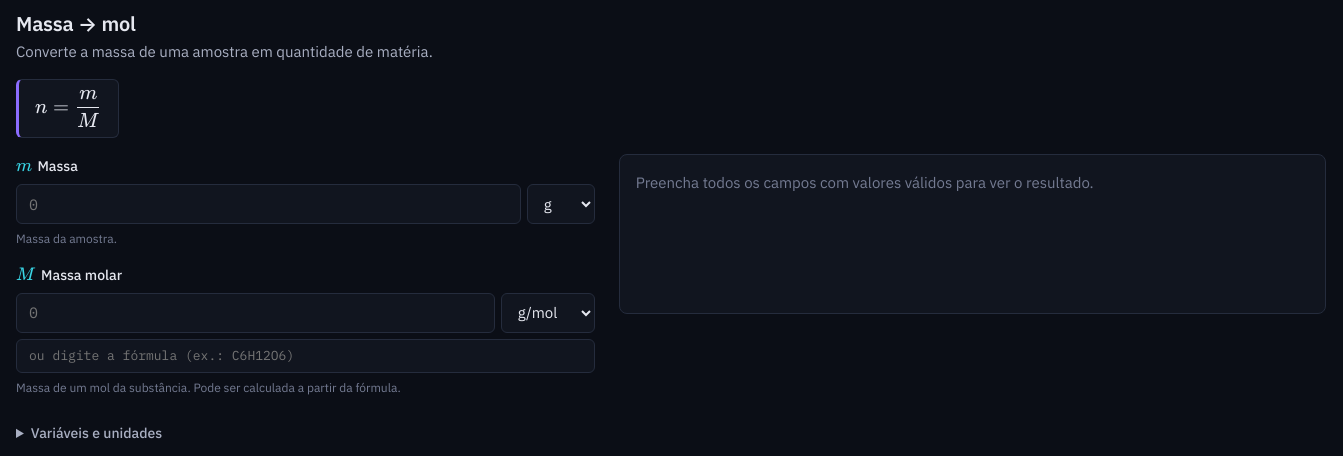
Test: calculadora (componente) › valida entradas inválidas e negativas
The width and height of the screenshot is (1343, 456).
Type "abc" into the field labelled "m Massa".
click(268, 204); type("abc")  # box x1=16 y1=184 x2=521 y2=224
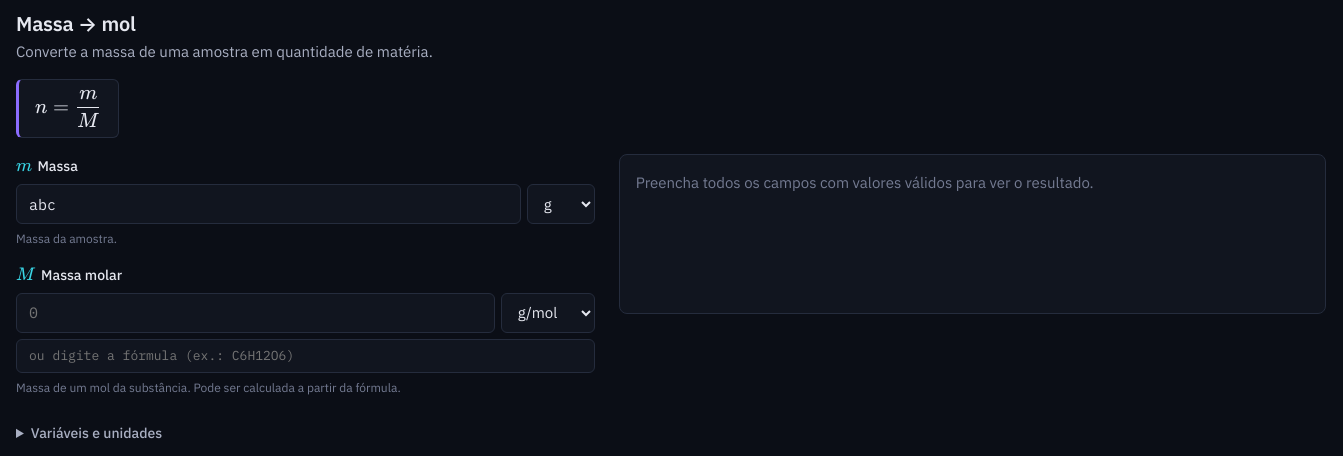
Leave the field labelled "m Massa", box x1=16 y1=184 x2=521 y2=224
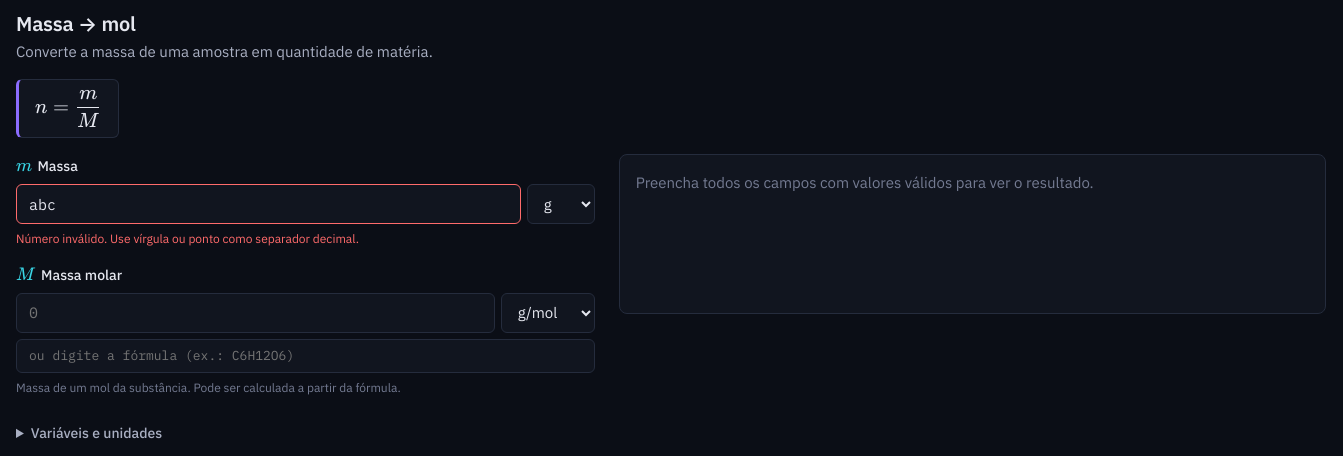
Expected: the text "Número inválido" is shown, x1=16 y1=231 x2=359 y2=246
Replace the text in the field labelled "m Massa" with "-3" at (268, 204), box x1=16 y1=184 x2=521 y2=224
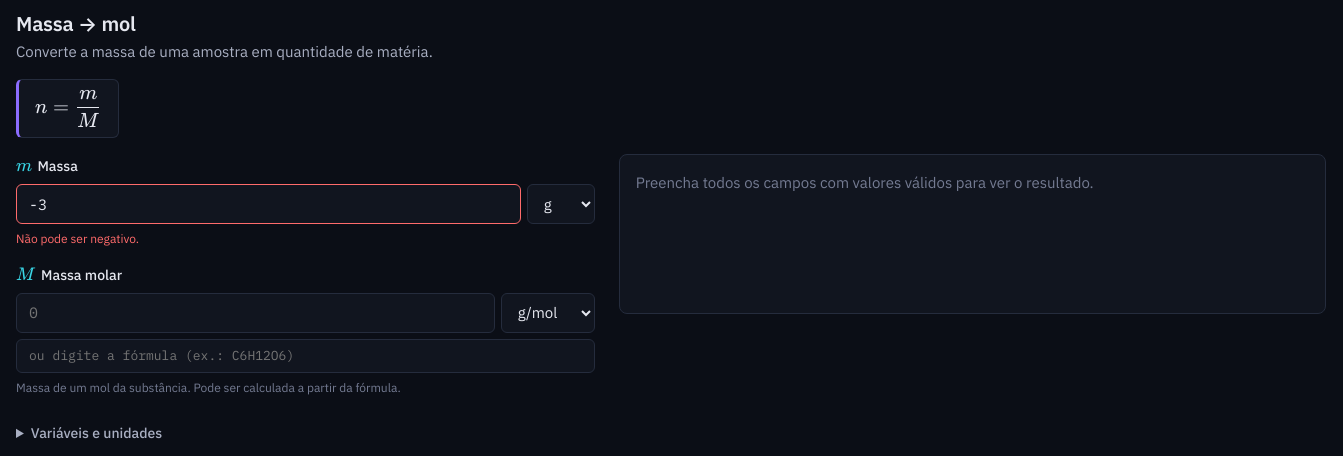
Expected: the text "Preencha todos os campos" is shown, x1=636 y1=173 x2=1094 y2=192
Expected: the text "Não pode ser negativo." is shown, x1=16 y1=231 x2=139 y2=246
